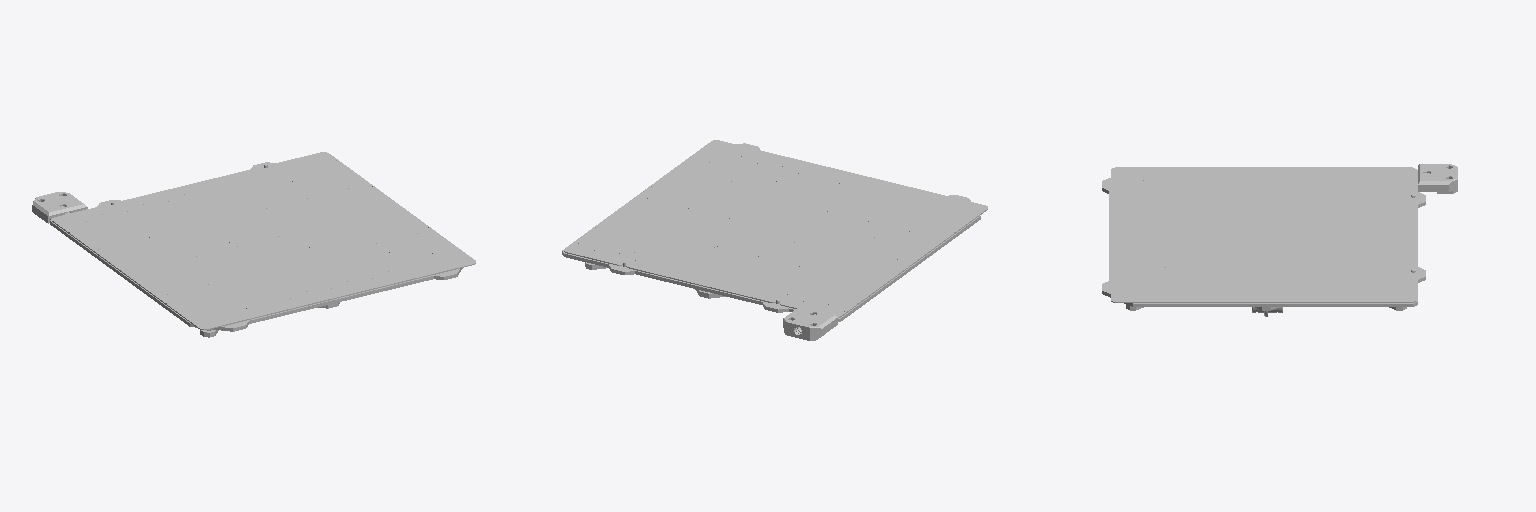
The model's file is Y_AXIS.obj.
The picture shows the model from 3 angles: view 1: azimuth 30°, elevation 25°; view 2: azimuth 150°, elevation 25°; view 3: azimuth 270°, elevation 25°; orthographic projection.
Size of the model in its own units: 254 by 44.29 by 281.